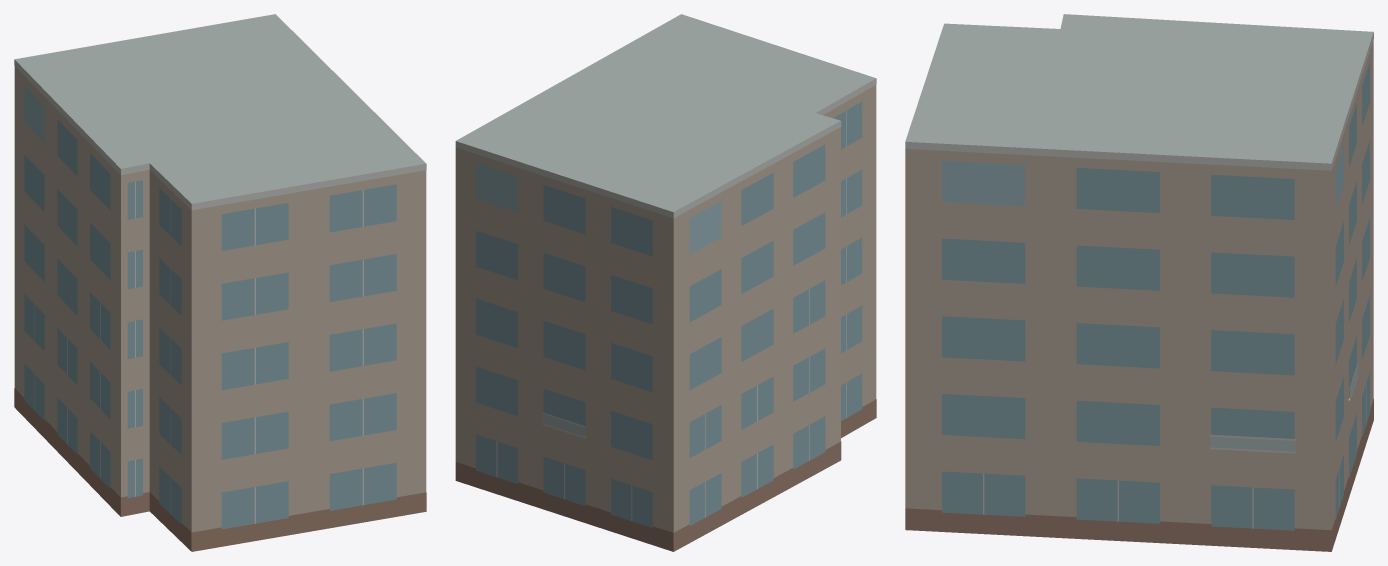
The model's file is survey-upis-32556389.glb.
3 views of the same model, side by side, from view 1: azimuth 30°, elevation 25°; view 2: azimuth 150°, elevation 25°; view 3: azimuth 270°, elevation 25° (orthographic). The views are drawn at different scales.
Visible parts, largest first — view 1: survey-upis-32556389.tmp; view 2: survey-upis-32556389.tmp; view 3: survey-upis-32556389.tmp.
Boxes of the visible parts, x1,y1,x2,y2 form: survey-upis-32556389.tmp: [14, 14, 426, 551]; survey-upis-32556389.tmp: [455, 14, 876, 551]; survey-upis-32556389.tmp: [905, 14, 1373, 551].
Size of the model in its own units: 11 by 13.3 by 14.56.
